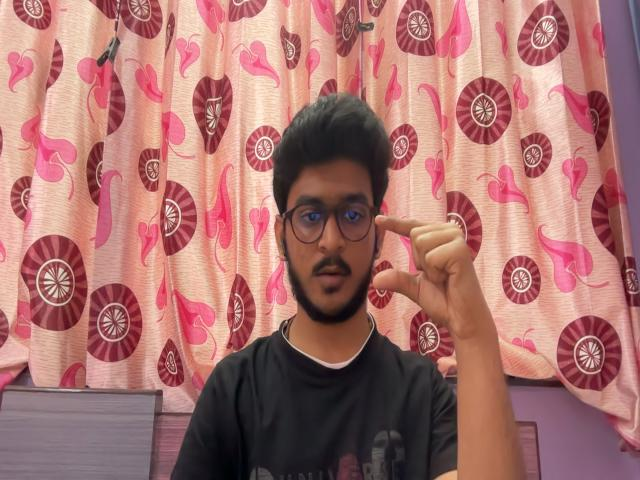No: (372, 207, 512, 367)
